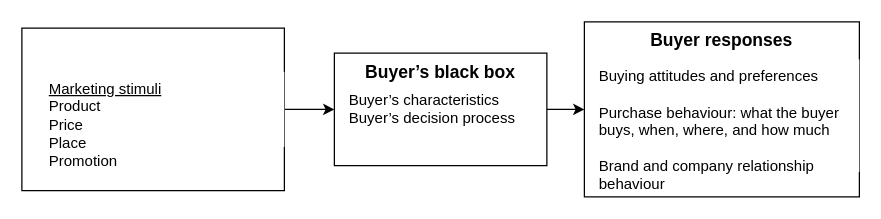
The diagram is 881 pixels wide and 219 high, and some of its shapes have lost their labels. The box of each missing label's shape, as (x1, y1, x2, y2) in pixels:
Other Economic Technological Social Cultural: (171, 71, 284, 146)
The environment: (21, 27, 284, 191)
